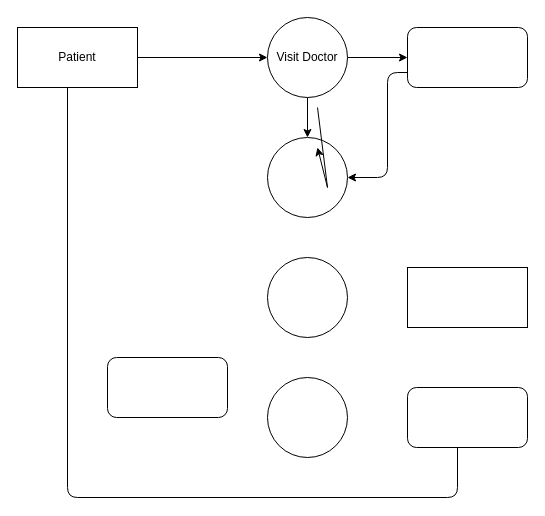
Image size: 545x516. Some labels were removed from this diagram. Here are the shapes that lost their labels. From the top down, the box of each, then its label:
(406, 26, 528, 88): Gain Prescription
(266, 136, 348, 218): Visit Recommended Department
